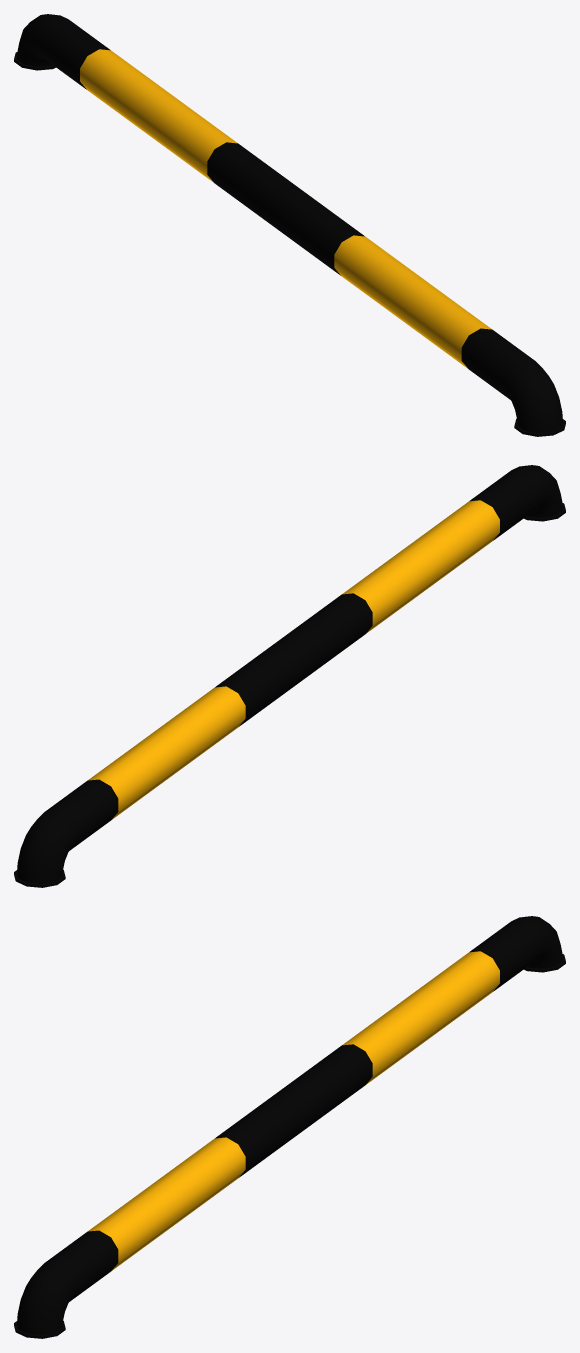
File: Parking_Limit_Position_Pole_2m.fbx
3 renders of one model, top to bottom at view 1: azimuth 30°, elevation 25°; view 2: azimuth 150°, elevation 25°; view 3: azimuth 330°, elevation 25°, orthographic.
Parts seen in each view (by area): view 1: Parking_Limit_Position_Pole_2m; view 2: Parking_Limit_Position_Pole_2m; view 3: Parking_Limit_Position_Pole_2m.
Boxes of the visible parts, box(x1,y1,x2,y2) form: Parking_Limit_Position_Pole_2m: box(14, 14, 565, 436); Parking_Limit_Position_Pole_2m: box(14, 465, 565, 887); Parking_Limit_Position_Pole_2m: box(14, 916, 565, 1338).
Bounding box in the file's own units: 0.0948 × 0.1124 × 1.99.
Materials: 1 (1 with a texture image).
